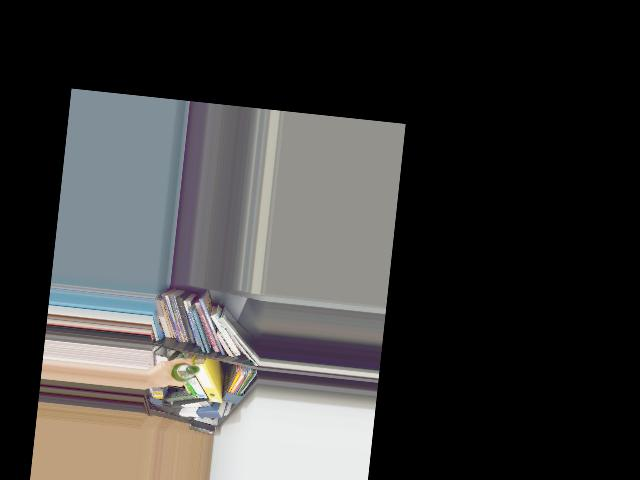beer: (170, 362, 199, 383)
